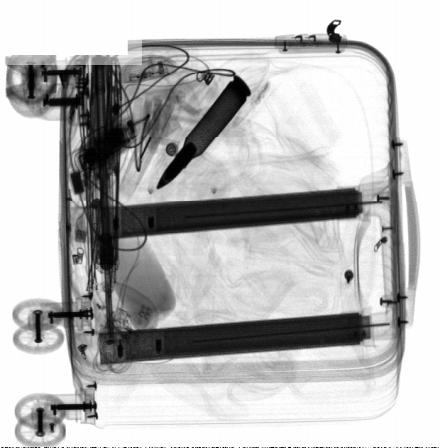Bullet: (155, 75, 251, 190)
